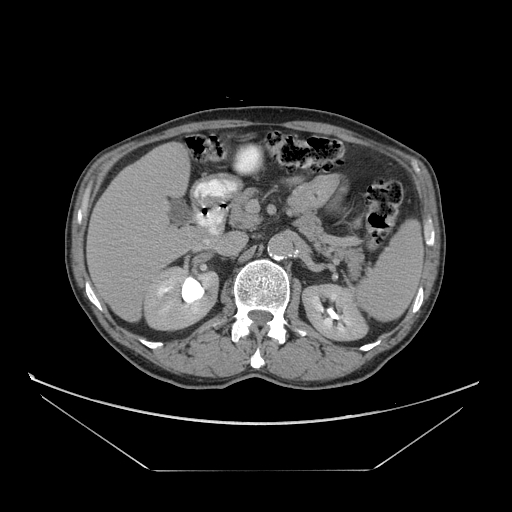left_kidney: (136, 264, 223, 334)
right_kidney: (298, 280, 371, 340)
